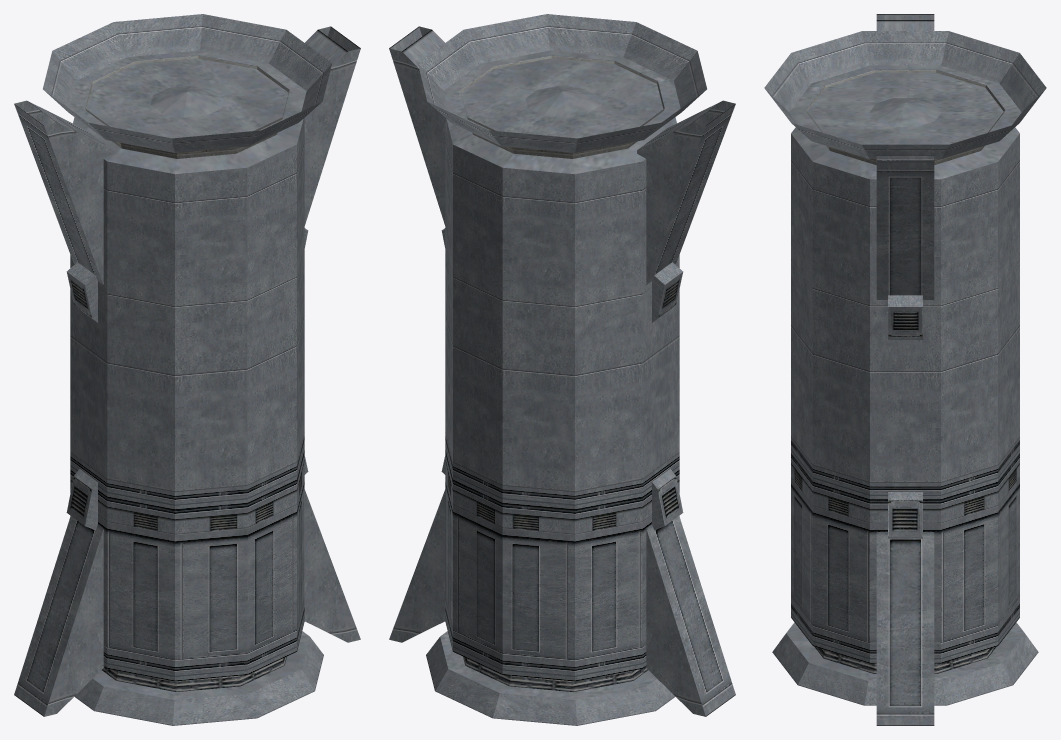
The model's file is poi_all_impl_bunker_pillar_s04_l0.fbx.
3 renders of one model, left to right at view 1: azimuth 30°, elevation 25°; view 2: azimuth 150°, elevation 25°; view 3: azimuth 270°, elevation 25°, orthographic. The views are drawn at different scales.
Visible parts, largest first — view 1: mesh_node; view 2: mesh_node; view 3: mesh_node.
Part boxes in pixels (x1=…): mesh_node: x1=14, y1=14, x2=360, y2=725; mesh_node: x1=389, y1=14, x2=735, y2=725; mesh_node: x1=764, y1=14, x2=1046, y2=725.
Bounding box in the file's own units: 3.04 × 5.43 × 2.46.
